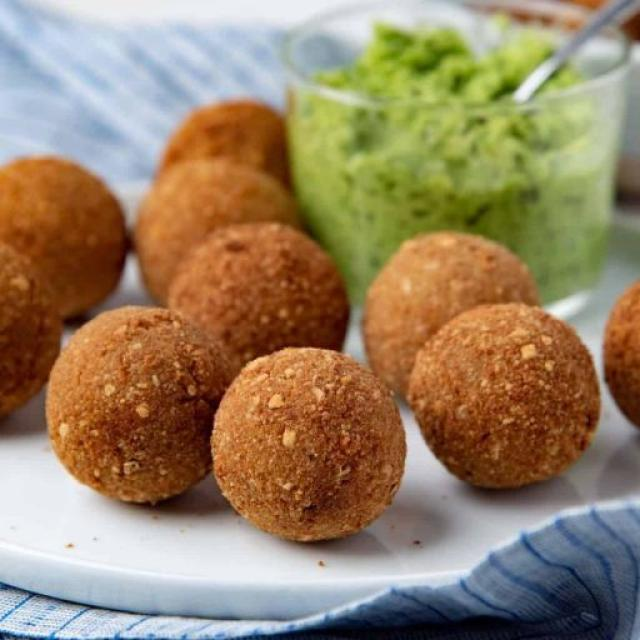Cutlet: (205, 346, 404, 524), (406, 303, 596, 475), (52, 298, 210, 490), (186, 220, 355, 346)
